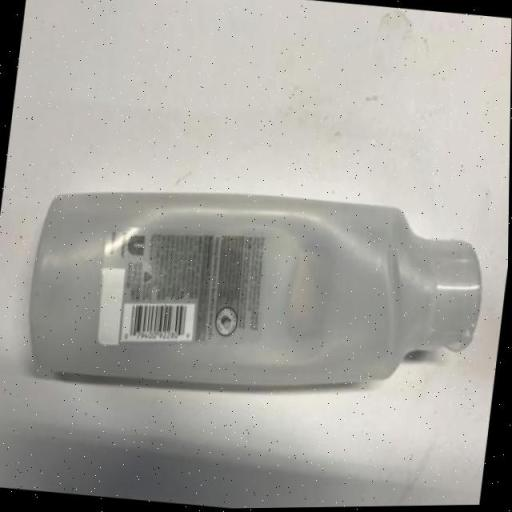plastic: (22, 168, 493, 422)
